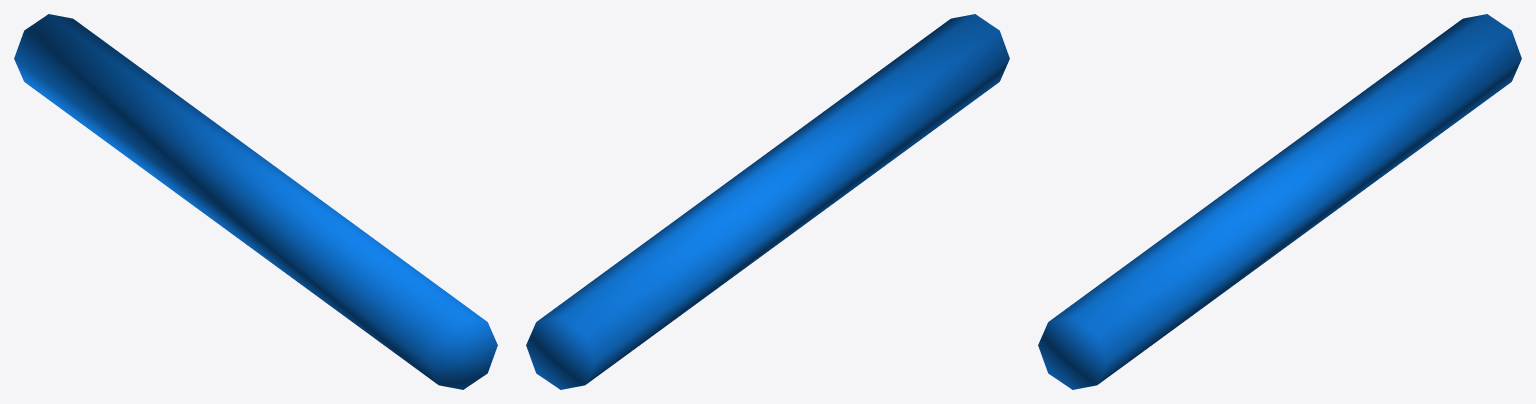
Rendered from BackScreen.fbx.
3 views of the same model, side by side, from view 1: azimuth 30°, elevation 25°; view 2: azimuth 150°, elevation 25°; view 3: azimuth 330°, elevation 25° (orthographic).
Visible parts, largest first — view 1: screen; view 2: screen; view 3: screen.
Boxes of the visible parts, left/top/right/bottom form: screen: left=14, top=14, right=497, bottom=389; screen: left=526, top=14, right=1009, bottom=389; screen: left=1038, top=14, right=1521, bottom=389.
Size of the model in its own units: 906 by 906 by 9394.
Materials: 1 (1 with a texture image).
